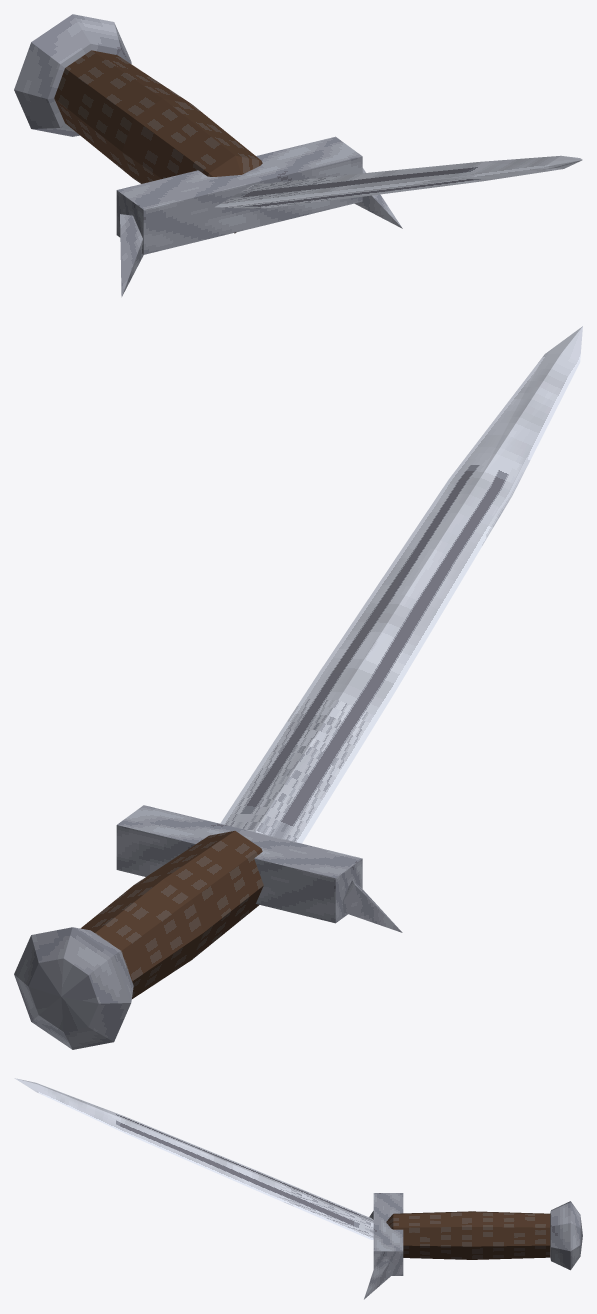
The model's file is blade.glb.
The picture shows the model from 3 angles, top to bottom: view 1: azimuth 30°, elevation 25°; view 2: azimuth 150°, elevation 25°; view 3: azimuth 270°, elevation 25°; orthographic projection. The views are drawn at different scales.
Visible parts, largest first — view 1: sword; view 2: sword; view 3: sword.
Boxes of the visible parts, box(x1,y1,x2,y2) form: sword: box(14, 14, 582, 296); sword: box(14, 326, 582, 1049); sword: box(14, 1078, 582, 1299).
Size of the model in its own units: 0.1296 by 0.1541 by 0.4158.
1 material, 1 textured.
